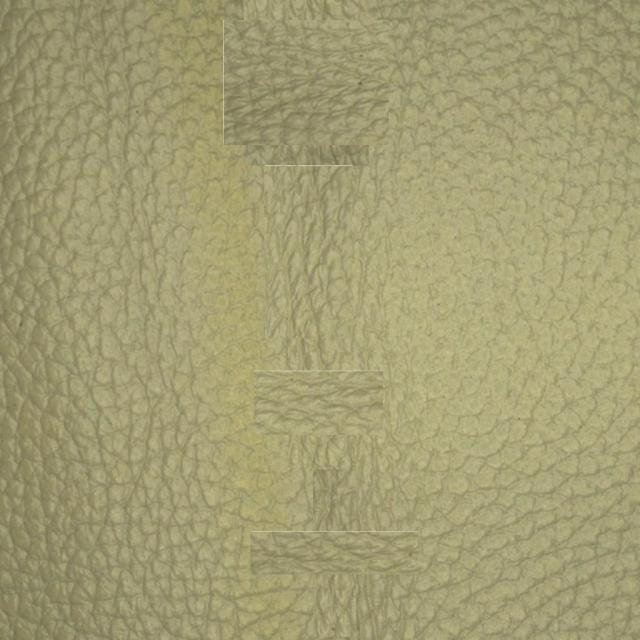Healed Injury: (242, 346, 477, 592), (200, 29, 423, 192)
